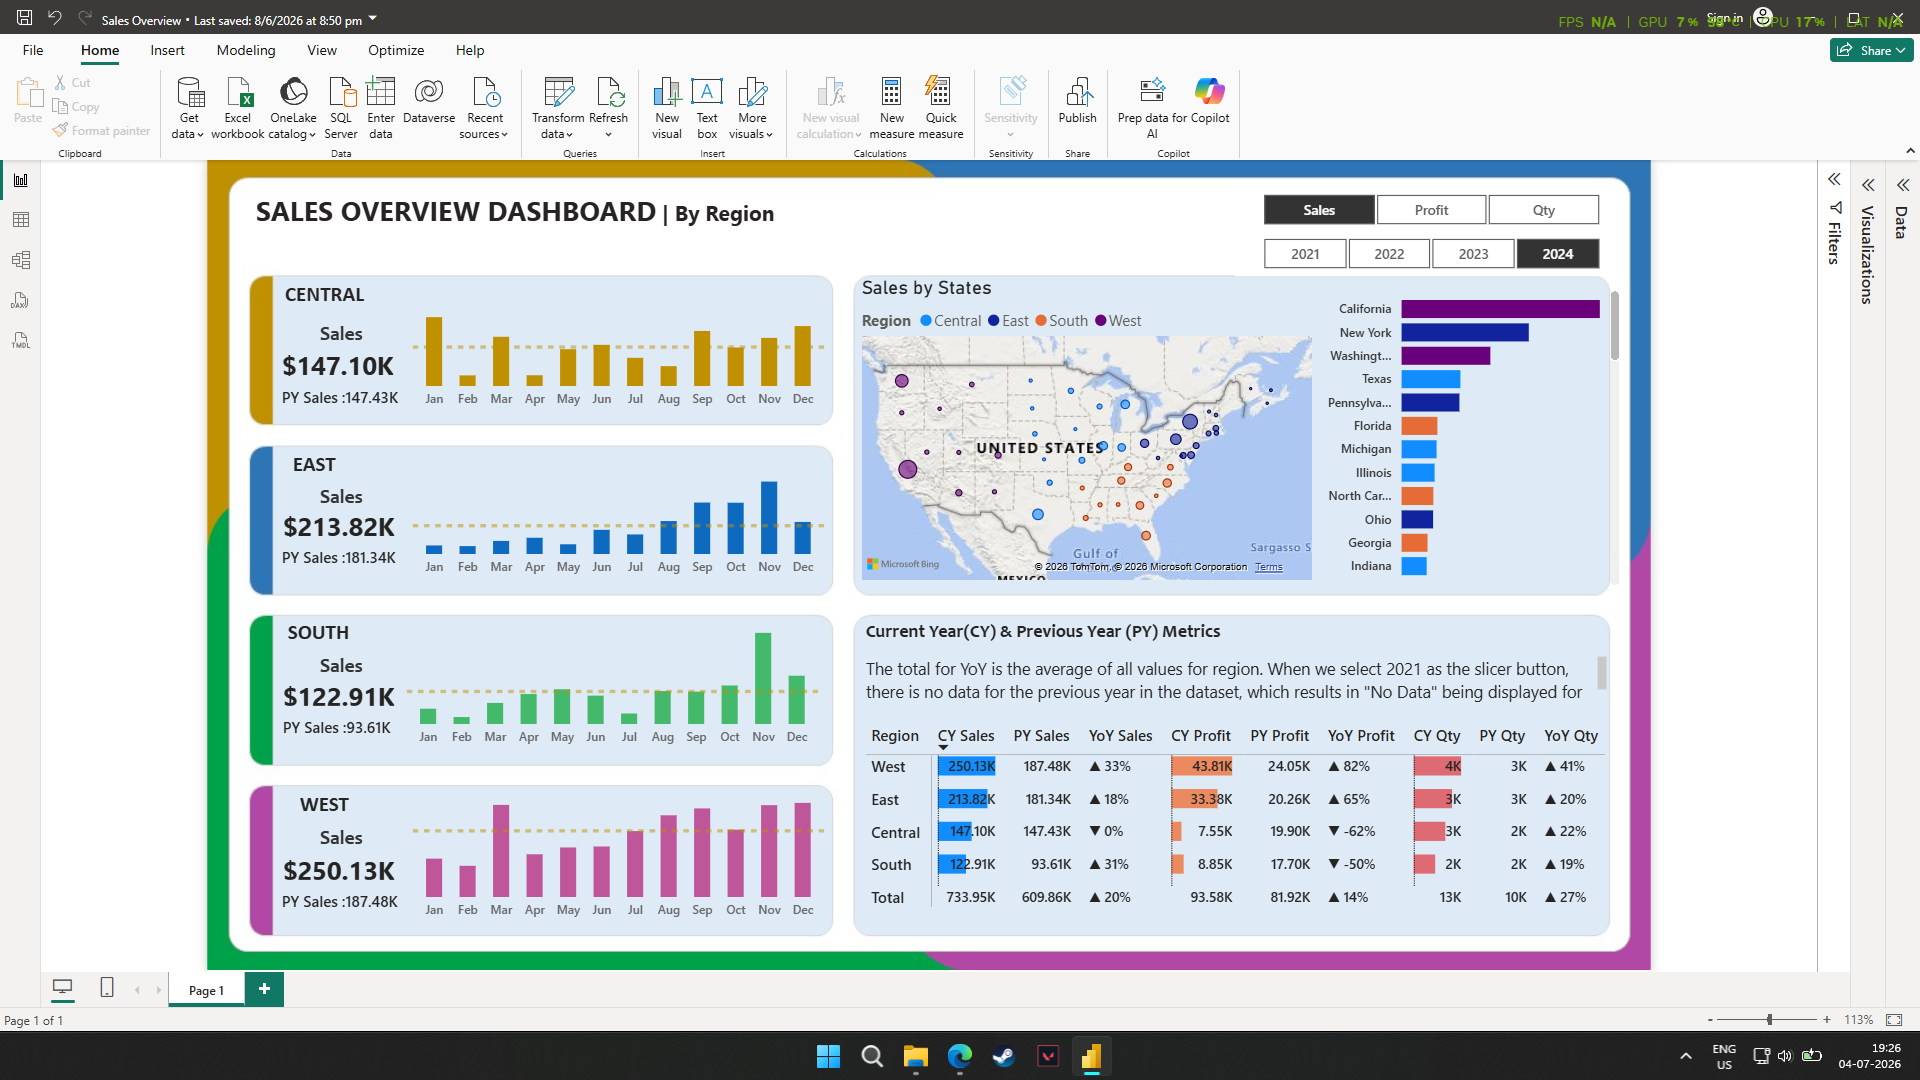

What the dashboard file says about the page in this screenshot:
{"tool":"powerbi","page":{"name":"Page 1","canvas":[1280,720],"ordinal":0},"visuals":[{"type":"slicer","fields":{"Values":["Select Metric.Select Metric"]},"box":[911.5,23.9,346.7,39],"z":0},{"type":"cardVisual","fields":{"Data":["Sales Data.Total Sales"]},"box":[37.2,152.5,193.3,56.7],"z":1000},{"type":"textbox","box":[22.2,102,164,36.4],"z":2000},{"type":"slicer","fields":{"Values":["Calendar Table.Year"]},"box":[911.5,63,346.7,39.9],"z":3000},{"type":"cardVisual","fields":{"Data":["Sales Data.Dynamic Title"]},"box":[71,125.5,101.2,53.5],"z":4000},{"type":"cardVisual","fields":{"Data":["Sales Data.PY KPI Sales"]},"box":[37.2,181.8,168.5,54.1],"z":5000},{"type":"clusteredColumnChart","fields":{"Y":["Sales Data.Total Sales"],"Category":["Calendar Table.Month"]},"box":[177,102.1,375.4,127.4],"z":6000},{"type":"textbox","box":[71,252.9,56.4,34],"z":7000},{"type":"cardVisual","fields":{"Data":["Sales Data.Dynamic Title"]},"box":[71,270.4,101.2,53.5],"z":8000},{"type":"cardVisual","fields":{"Data":["Sales Data.Total Sales"]},"box":[37.9,295.7,192.6,56.4],"z":9000},{"type":"cardVisual","fields":{"Data":["Sales Data.PY KPI Sales"]},"box":[37,323.9,168.3,54.5],"z":10000},{"type":"clusteredColumnChart","fields":{"Y":["Sales Data.Total Sales"],"Category":["Calendar Table.Month"]},"box":[177,250.9,375.4,127.4],"z":11000},{"type":"textbox","box":[55,401.7,87.8,36.4],"z":12000},{"type":"cardVisual","fields":{"Data":["Sales Data.Dynamic Title"]},"box":[70.9,420.3,101.1,54.1],"z":13000},{"type":"cardVisual","fields":{"Data":["Sales Data.Total Sales"]},"box":[38.1,446,192.4,55.9],"z":14000},{"type":"cardVisual","fields":{"Data":["Sales Data.PY KPI Sales"]},"box":[37.9,474.7,168.3,54.5],"z":15000},{"type":"clusteredColumnChart","fields":{"Y":["Sales Data.Total Sales"],"Category":["Calendar Table.Month"]},"box":[172.2,401.7,375.4,127.4],"z":16000},{"type":"textbox","box":[60.3,554.4,87.5,37],"z":17000},{"type":"cardVisual","fields":{"Data":["Sales Data.Dynamic Title"]},"box":[71,572.9,101.2,54.5],"z":18000},{"type":"cardVisual","fields":{"Data":["Sales Data.Total Sales"]},"box":[37.9,600.1,192.6,55.4],"z":19000},{"type":"cardVisual","fields":{"Data":["Sales Data.PY KPI Sales"]},"box":[37,628.3,168.3,54.5],"z":20000},{"type":"clusteredColumnChart","fields":{"Y":["Sales Data.Total Sales"],"Category":["Calendar Table.Month"]},"box":[177,555.4,375.4,127.4],"z":21000},{"type":"map","fields":{"Size":["Sales Data.Total Sales"],"Category":["Sales Data.State/Province"],"Series":["Sales Data.Region"]},"box":[575.8,103.1,408.5,275.3],"z":22000},{"type":"barChart","fields":{"Y":["Sales Data.Total Sales"],"Category":["Sales Data.State/Province"],"Series":["Sales Data.Region"]},"box":[976.5,103.1,281.1,279.1],"z":23000},{"type":"textbox","box":[38.4,23.3,601,43.9],"z":24000},{"type":"pivotTable","fields":{"Rows":["Sales Data.Region"],"Values":["Sales Data.CY Sales","Sales Data.PY Sales","Sales Data.YoY Sales","Sales Data.CY Profit","Sales Data.PY Profit","Sales Data.YoY Profit","Sales Data.CY Qty","Sales Data.PY Qty","Sales Data.YoY Qty"]},"box":[579.1,494.6,667.2,195.4],"z":25000},{"type":"textbox","box":[579.1,403,587.5,35],"z":26000},{"type":"textbox","box":[579.1,435.5,667.2,51.9],"z":27000}]}

Visuals, with their boxes on the page's 1280x720 design canvas (x1, y1, x2, y2). These are canvas units, not pixel positions in the 1920x1080 screenshot, which may show the page scaled, cropped or inside an application window:
slicer - Select Metric.Select Metric: bbox(912, 24, 1258, 63)
cardVisual - Sales Data.Total Sales: bbox(37, 152, 230, 209)
textbox: bbox(22, 102, 186, 138)
slicer - Calendar Table.Year: bbox(912, 63, 1258, 103)
cardVisual - Sales Data.Dynamic Title: bbox(71, 126, 172, 179)
cardVisual - Sales Data.PY KPI Sales: bbox(37, 182, 206, 236)
clusteredColumnChart - Sales Data.Total Sales x Calendar Table.Month: bbox(177, 102, 552, 230)
textbox: bbox(71, 253, 127, 287)
cardVisual - Sales Data.Dynamic Title: bbox(71, 270, 172, 324)
cardVisual - Sales Data.Total Sales: bbox(38, 296, 230, 352)
cardVisual - Sales Data.PY KPI Sales: bbox(37, 324, 205, 378)
clusteredColumnChart - Sales Data.Total Sales x Calendar Table.Month: bbox(177, 251, 552, 378)
textbox: bbox(55, 402, 143, 438)
cardVisual - Sales Data.Dynamic Title: bbox(71, 420, 172, 474)
cardVisual - Sales Data.Total Sales: bbox(38, 446, 230, 502)
cardVisual - Sales Data.PY KPI Sales: bbox(38, 475, 206, 529)
clusteredColumnChart - Sales Data.Total Sales x Calendar Table.Month: bbox(172, 402, 548, 529)
textbox: bbox(60, 554, 148, 591)
cardVisual - Sales Data.Dynamic Title: bbox(71, 573, 172, 627)
cardVisual - Sales Data.Total Sales: bbox(38, 600, 230, 656)
cardVisual - Sales Data.PY KPI Sales: bbox(37, 628, 205, 683)
clusteredColumnChart - Sales Data.Total Sales x Calendar Table.Month: bbox(177, 555, 552, 683)
map - Sales Data.Total Sales x Sales Data.State/Province: bbox(576, 103, 984, 378)
barChart - Sales Data.Total Sales x Sales Data.State/Province: bbox(976, 103, 1258, 382)
textbox: bbox(38, 23, 639, 67)
pivotTable - Sales Data.Region x Sales Data.CY Sales: bbox(579, 495, 1246, 690)
textbox: bbox(579, 403, 1167, 438)
textbox: bbox(579, 436, 1246, 487)
